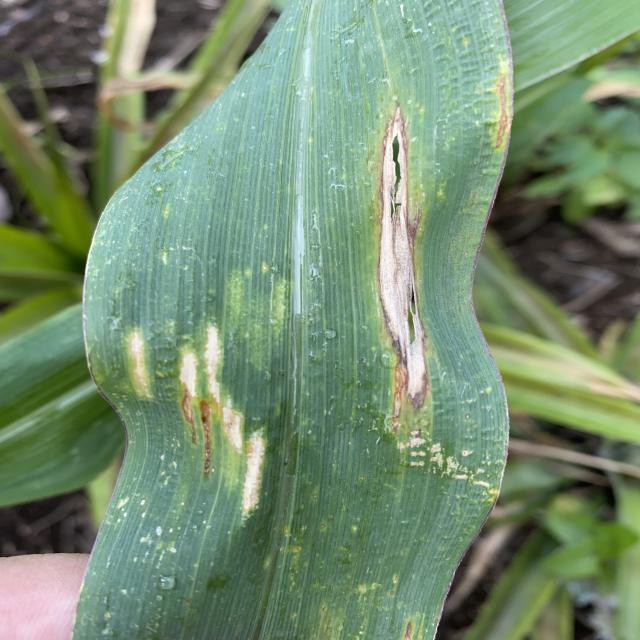Corn_Leaf_Blight: (85, 0, 519, 640)
